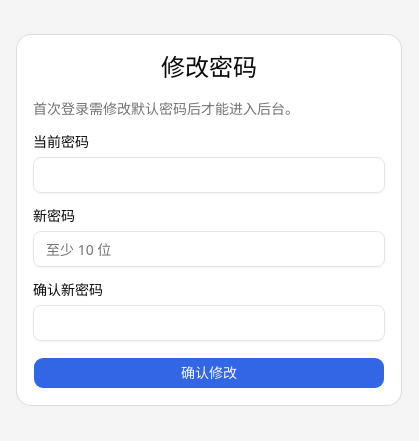
Test: ChangePasswordPage › T-F5: rejects a new password shorter than 10 characters
The width and height of the screenshot is (419, 441).
Type "oldpassword" into the password field labelled "当前密码".
click(209, 175); type("oldpassword")  # box left=33, top=157, right=385, bottom=193
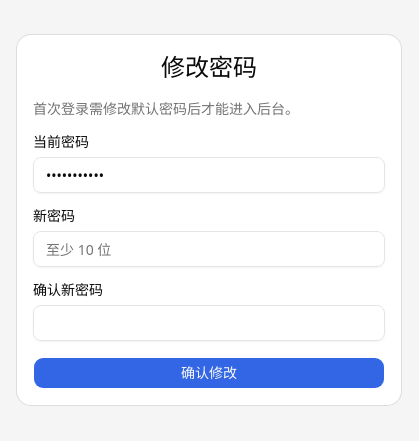
Type "short" into the password field labelled "新密码".
click(209, 249); type("short")  # box left=33, top=231, right=385, bottom=267
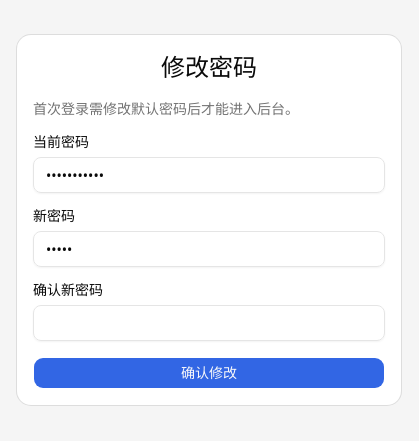
Type "short" into the password field labelled "确认新密码".
click(209, 323); type("short")  # box left=33, top=305, right=385, bottom=341
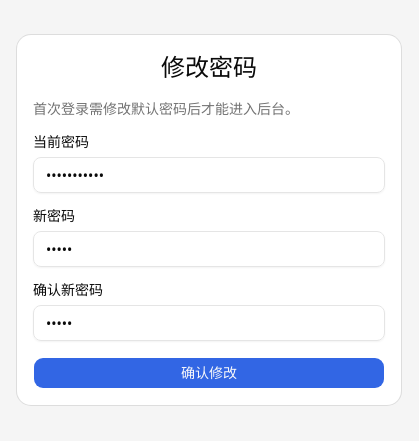
Click the button "确认修改".
click(209, 373)  # box left=33, top=357, right=385, bottom=389
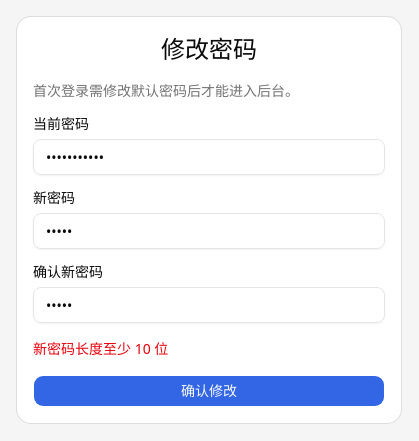
Check: the message reads "新密码长度至少 10 位", box left=33, top=339, right=168, bottom=358
